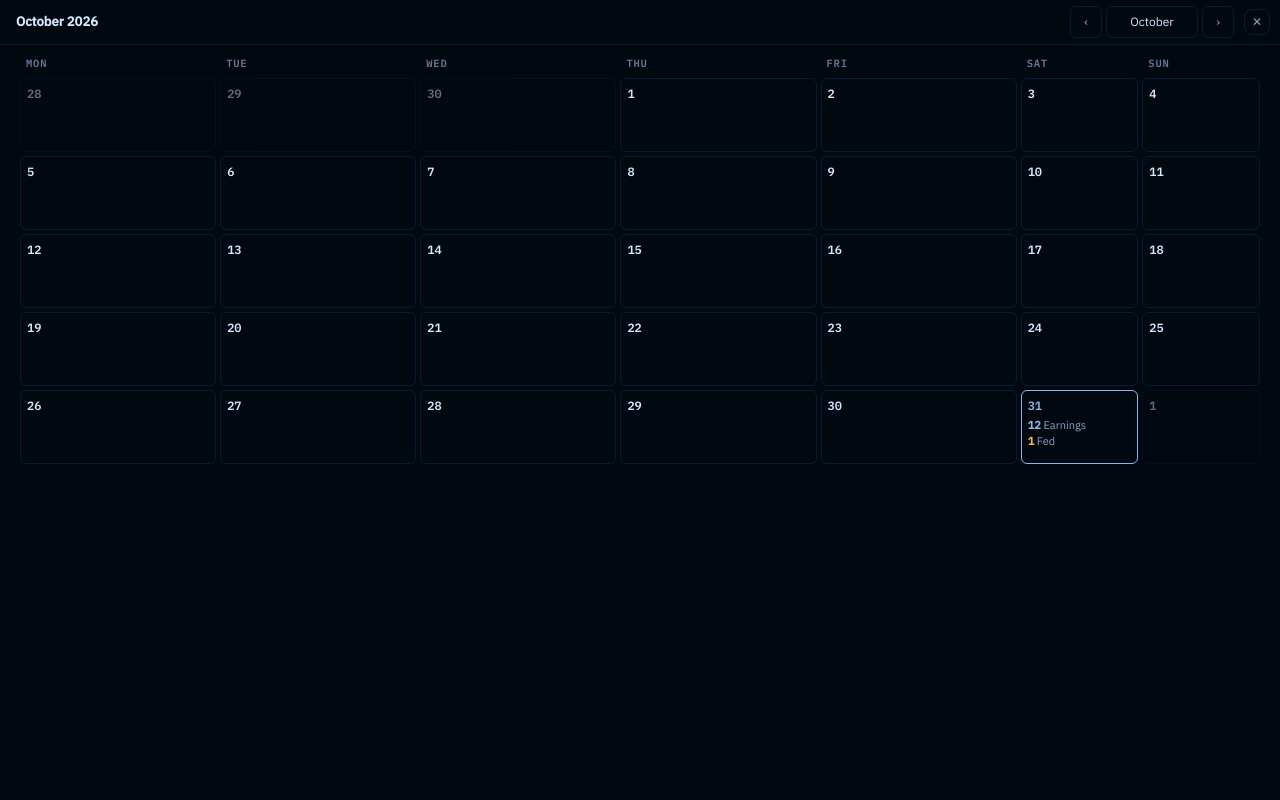
CalendarPanel › a clicked day REPLACES the grid with its page; back returns to the month
Click the button "31 12 Earnings 1 Fed" at (1079, 427), box 1021,390 -> 1138,464
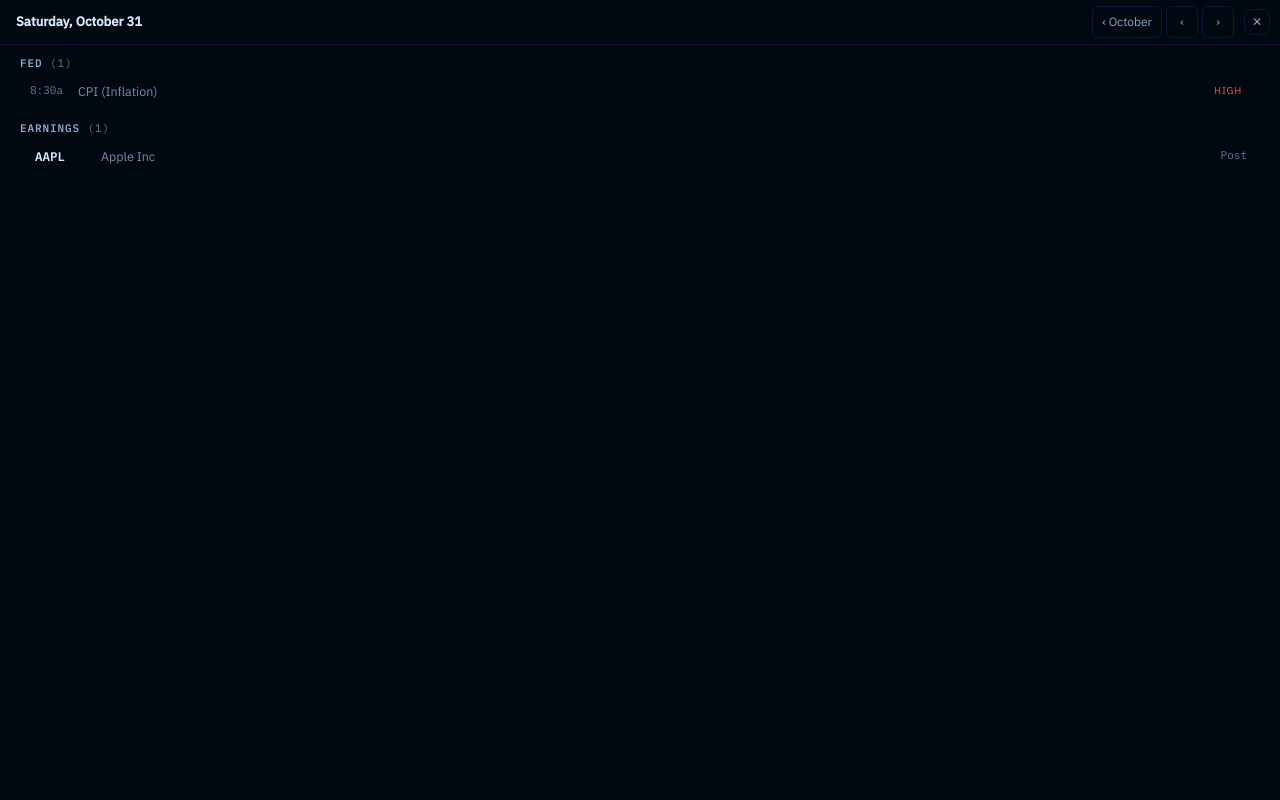
Expected: the element with class "cal-grid" is gone
Expected: the text "CPI (Inflation)" is shown, 78,83 -> 158,99
Expected: the text "AAPL" is shown, 35,148 -> 65,164
Click the button "‹ October" at (1127, 22), box 1092,6 -> 1162,38
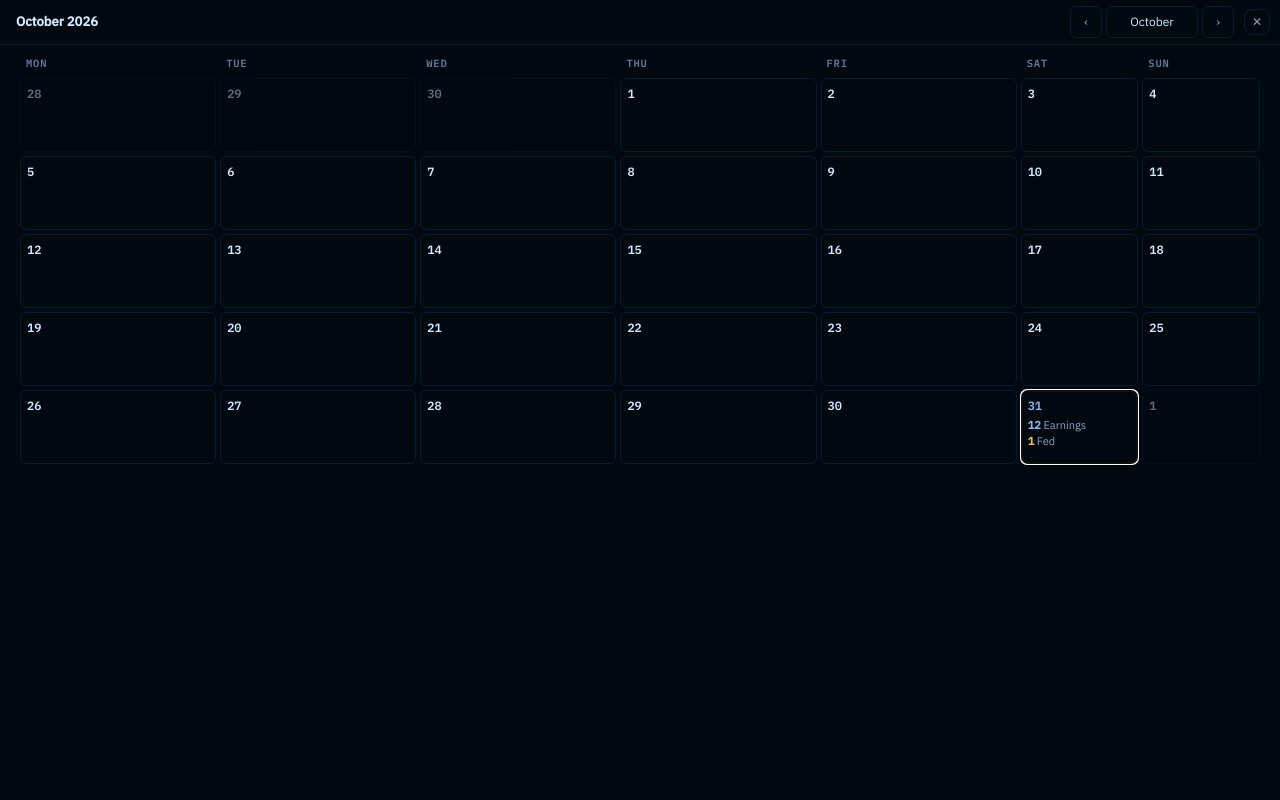
Expected: the element with class "cal-grid" is shown, 20,55 -> 1260,464
